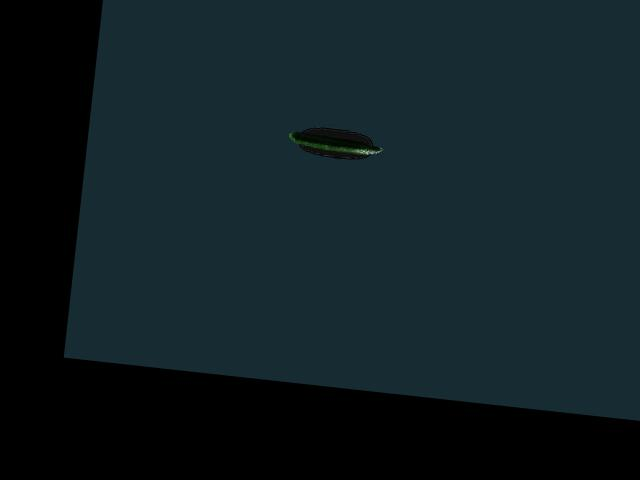cucumber: (288, 130, 384, 156)
